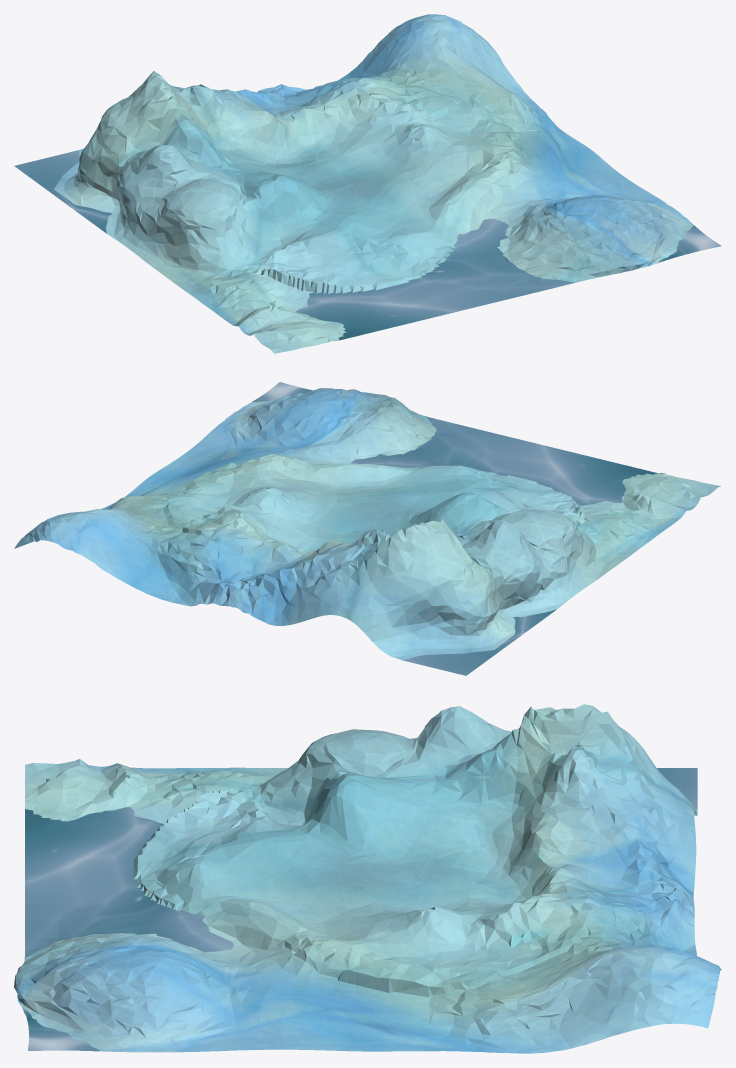
Rendered from arctic_landscape_low-poly.glb.
3 views of the same model, one above another, from view 1: azimuth 30°, elevation 25°; view 2: azimuth 150°, elevation 25°; view 3: azimuth 270°, elevation 25° (orthographic). The views are drawn at different scales.
Visible parts, largest first — view 1: antarctica_Mesh; view 2: antarctica_Mesh; view 3: antarctica_Mesh.
Boxes of the visible parts, x1,y1,x2,y2 form: antarctica_Mesh: [14, 14, 721, 353]; antarctica_Mesh: [14, 382, 720, 675]; antarctica_Mesh: [14, 704, 721, 1053].
Bounding box in the file's own units: 47.64 × 9.72 × 49.39.
Materials: 1 (1 with a texture image).
